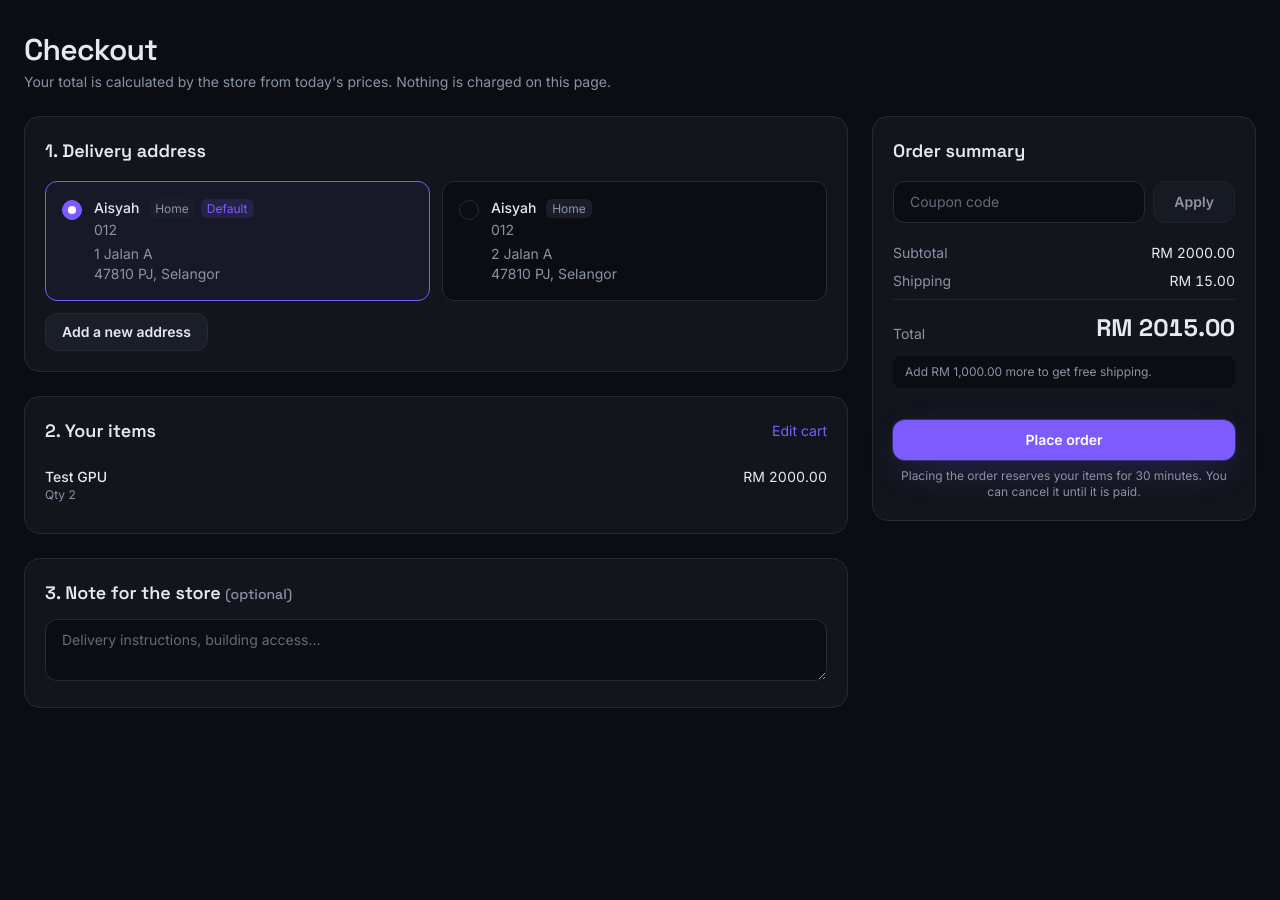
Checkout page › applies a coupon and shows the discount the server calculated
Type "welcome10" into the field with id "coupon-code" at [1019, 202], box x1=893 y1=181 x2=1145 y2=223
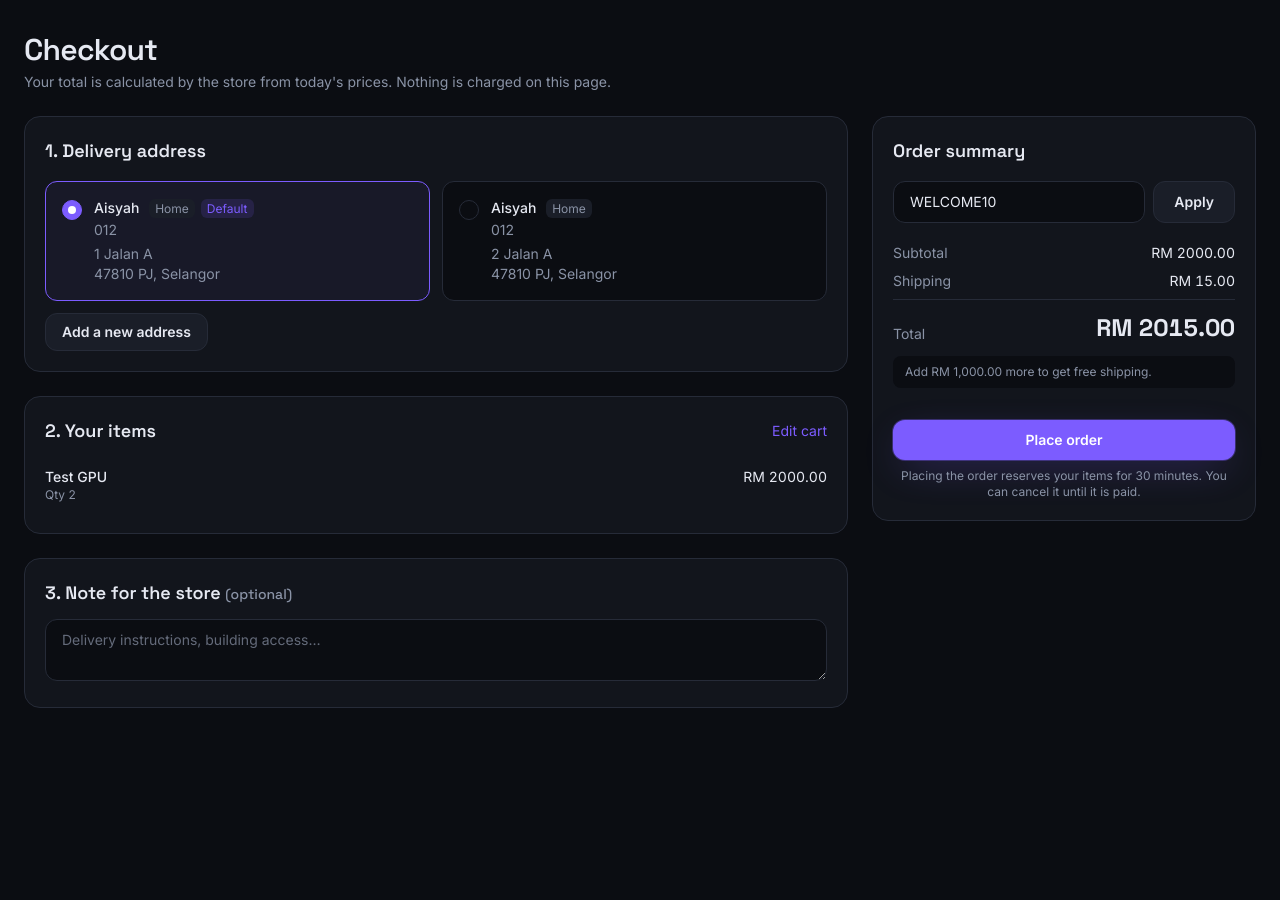
Submit the form, box x1=893 y1=181 x2=1235 y2=223
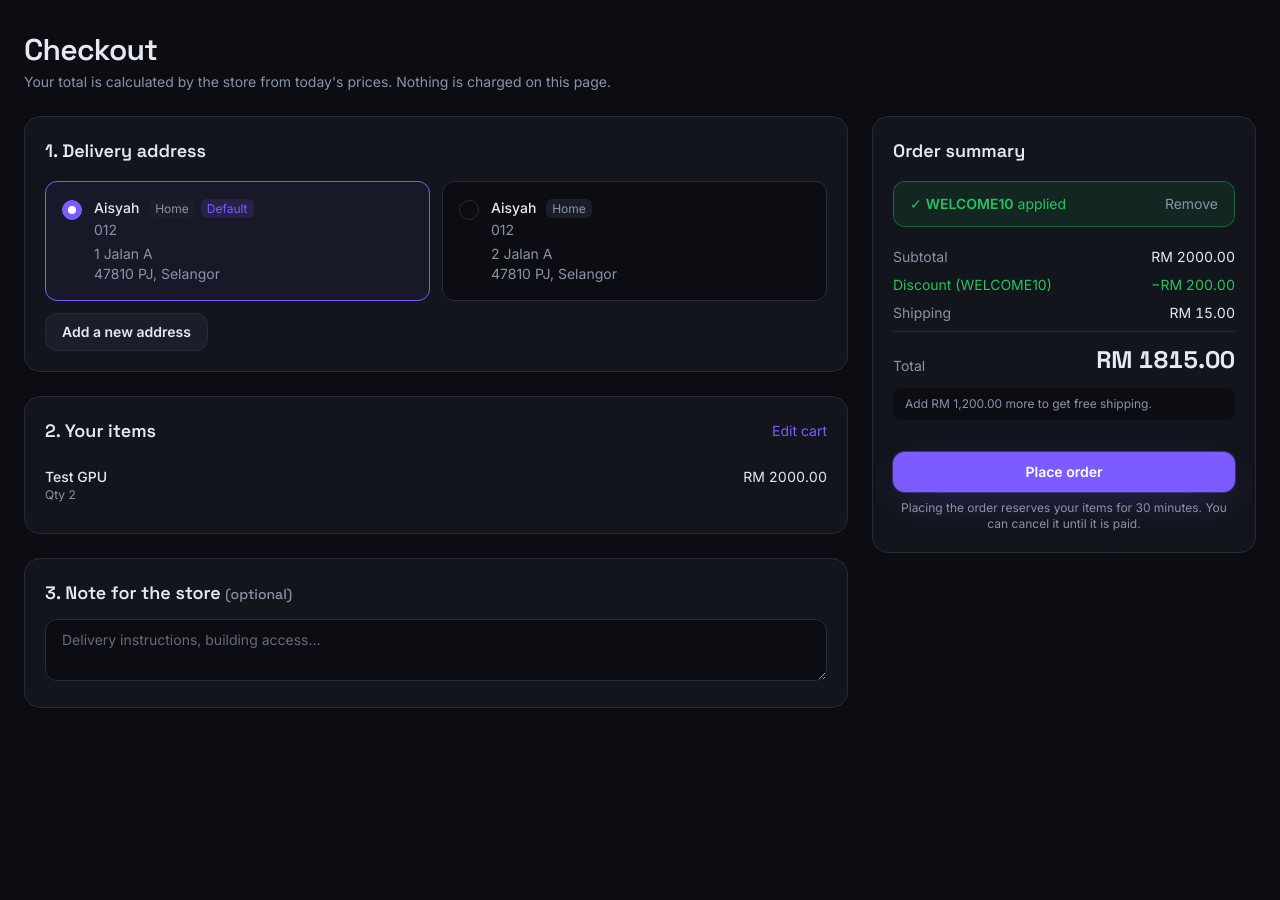
Now the text "WELCOME10 applied" is shown, box x1=910 y1=194 x2=1066 y2=214
Now the text with test id "discount" reads "−RM 200.00", box x1=1151 y1=276 x2=1235 y2=293
Now the text with test id "total" reads "RM 1815.00", box x1=1096 y1=344 x2=1235 y2=375
